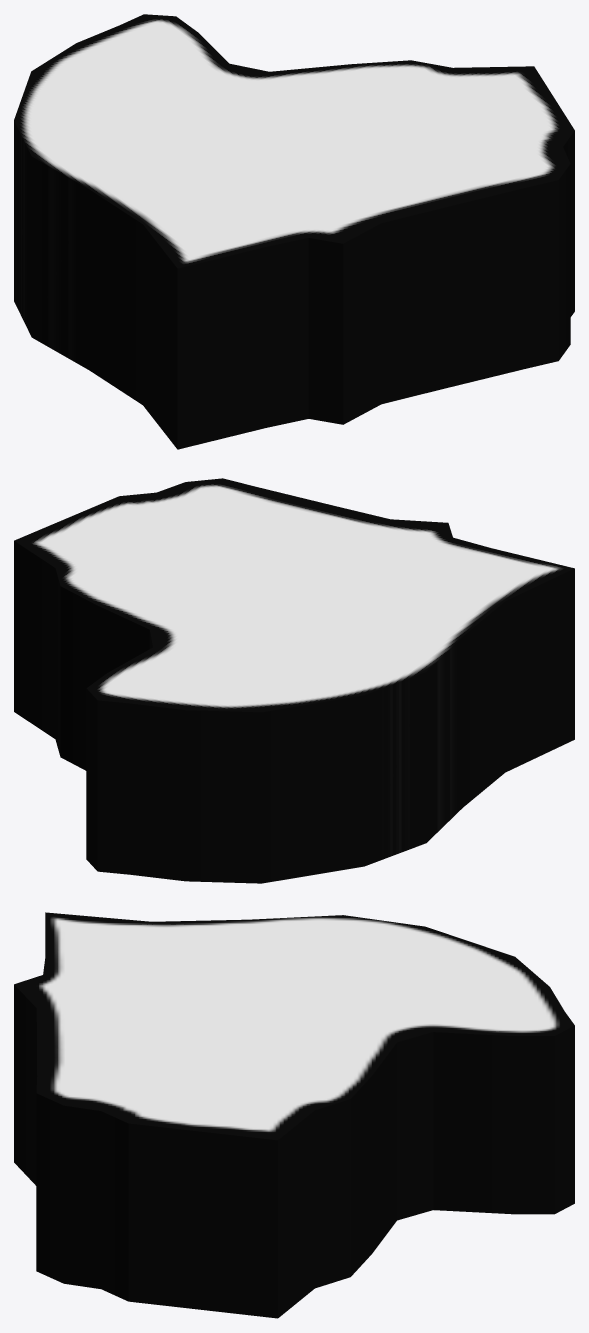
The picture shows the model from 3 angles, top to bottom: view 1: azimuth 30°, elevation 25°; view 2: azimuth 150°, elevation 25°; view 3: azimuth 270°, elevation 25°; orthographic projection. The views are drawn at different scales.
Parts seen in each view (by area): view 1: polySurface10; view 2: polySurface10; view 3: polySurface10.
Boxes of the visible parts, x1,y1,x2,y2 form: polySurface10: (14,14,574,449); polySurface10: (14,478,574,883); polySurface10: (14,912,574,1318).
Size of the model in its own units: 1.37 by 0.5 by 1.43.
